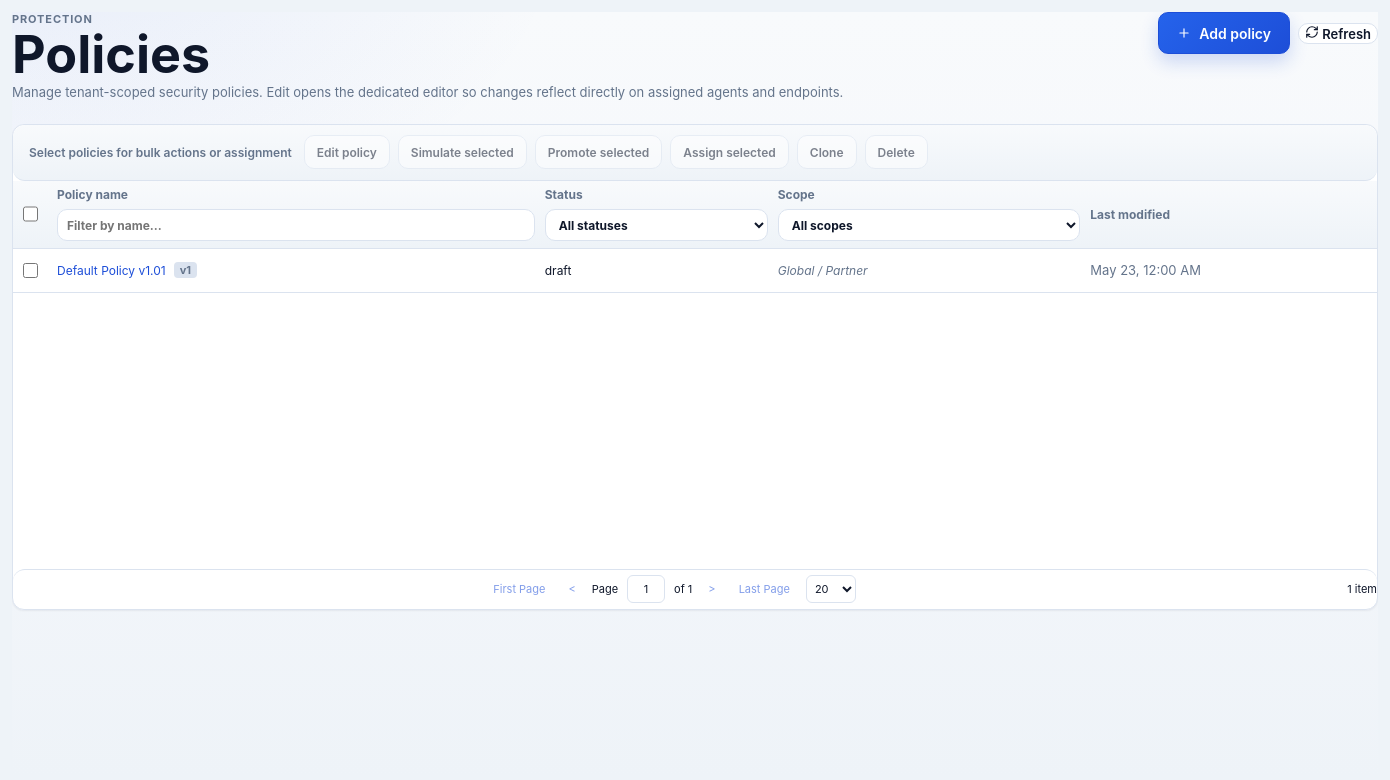
Test: PolicyPage › filters catalog rows by policy name
This screenshot has width=1390, height=780.
Expected: the button "Default Policy v1.01" is shown, [57,263,166,278]
Type "missing" into the field named "Filter by policy name" at point(296, 225), box [57,209,535,241]
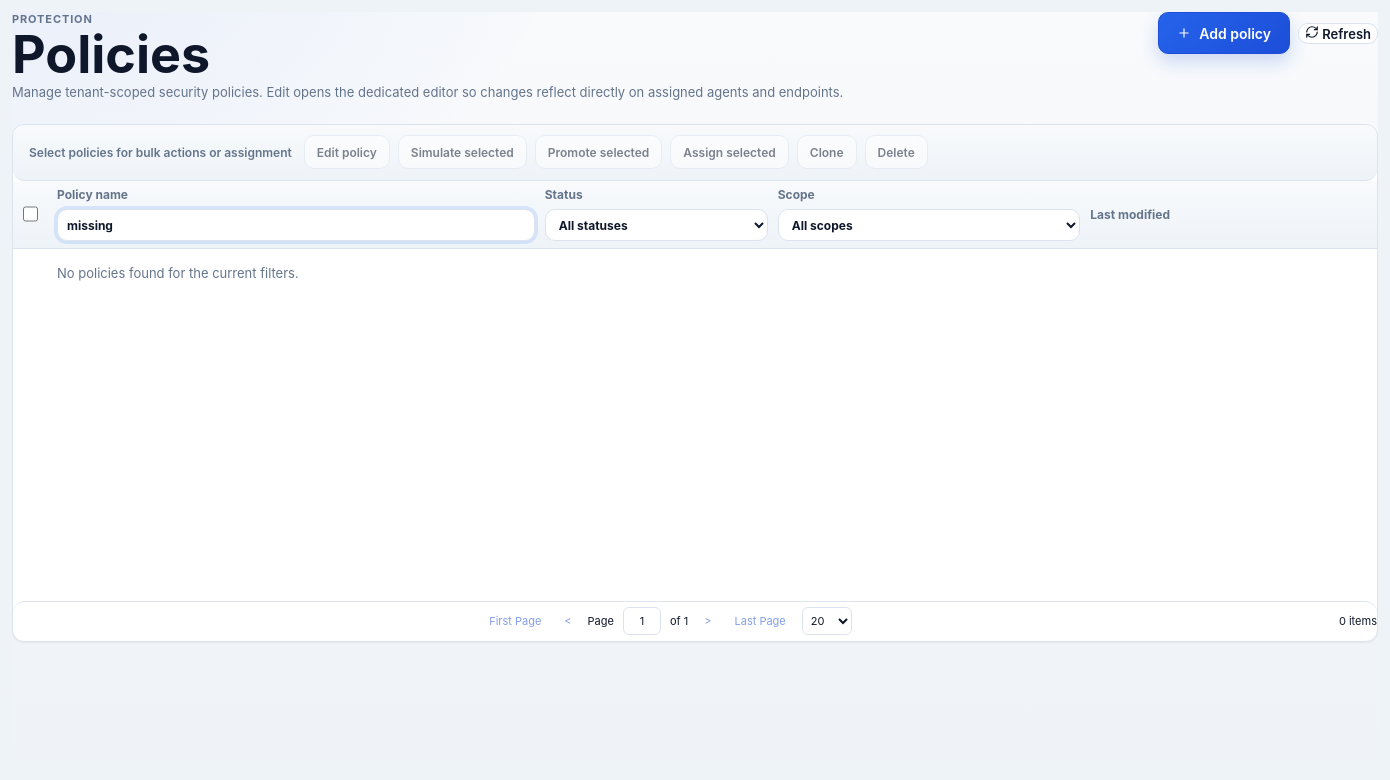
Result: the button "Default Policy v1.01" is gone
Result: the text "No policies found for the current filters." is shown at [57,265,299,281]
